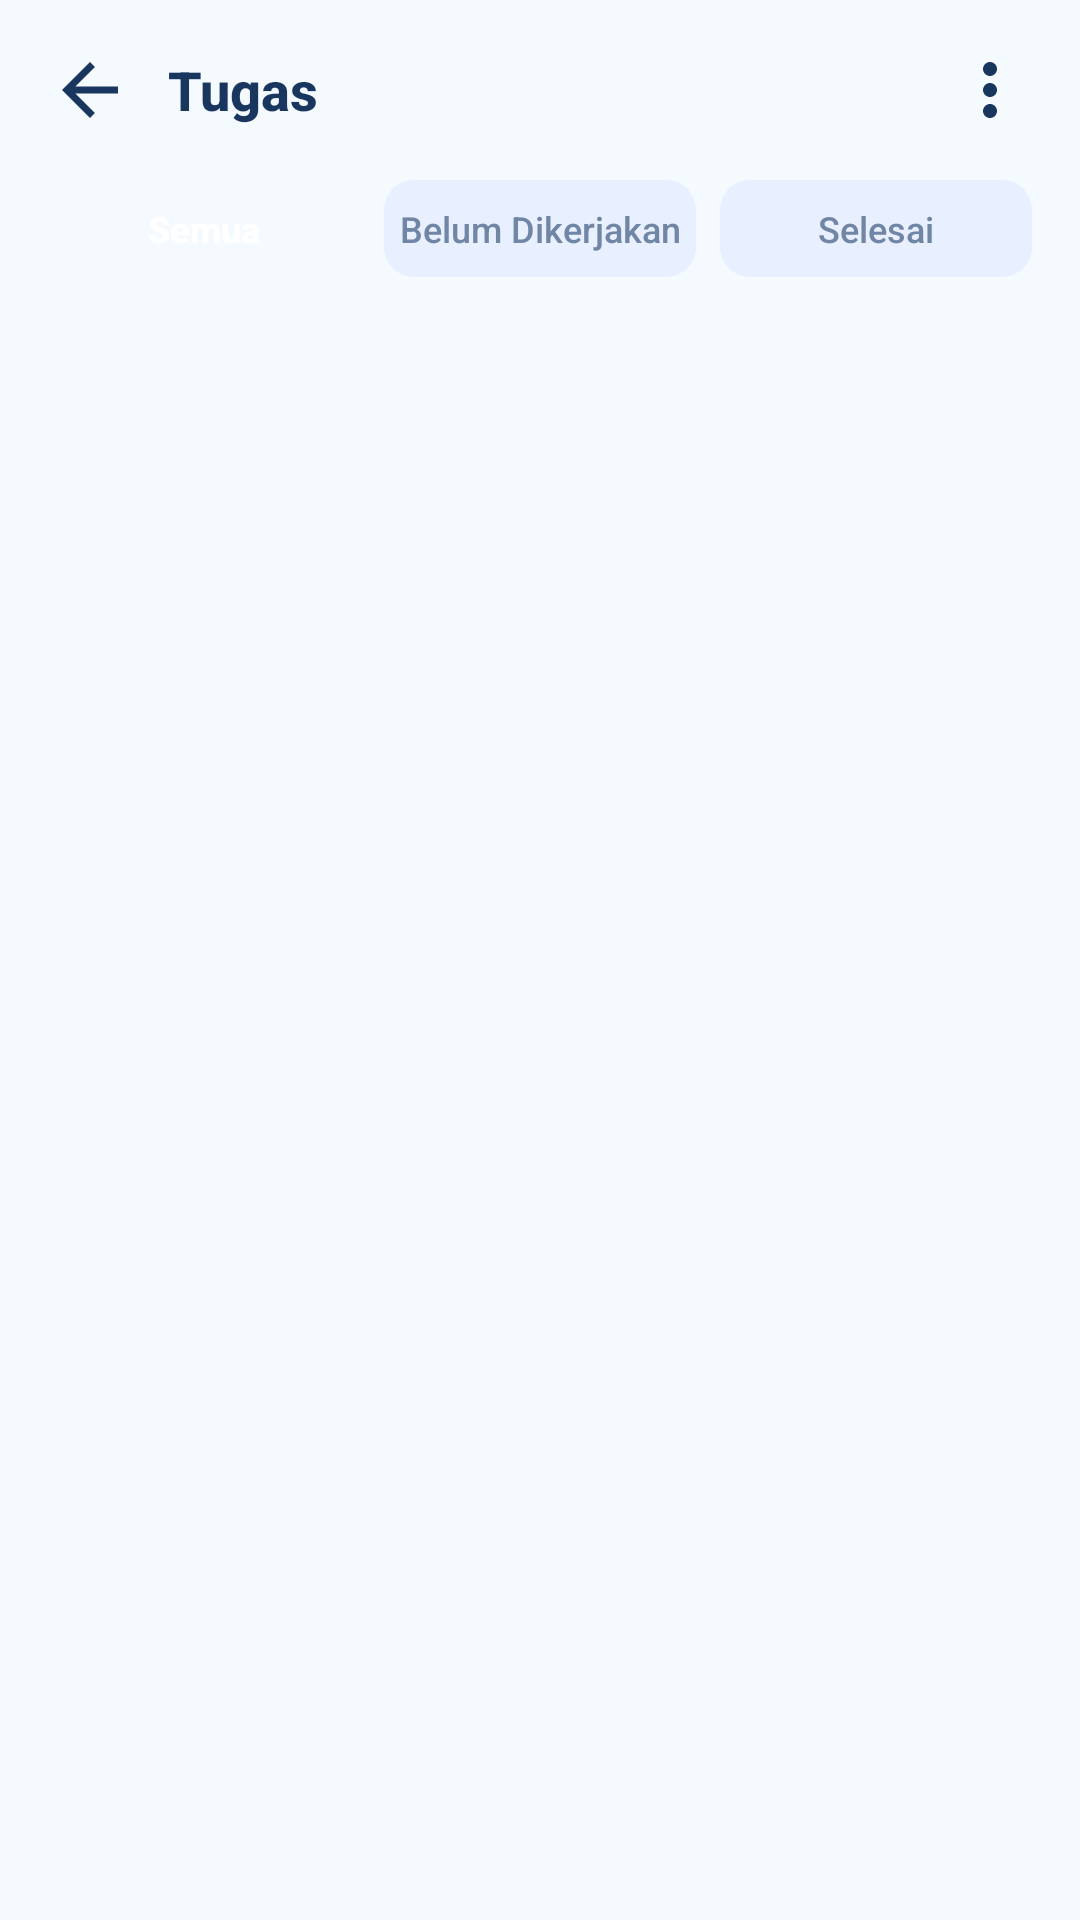

Where to tap for icons on this 1080w x 1920h app screen, as (x,y):
back: (90,90)
more vert: (990,90)
